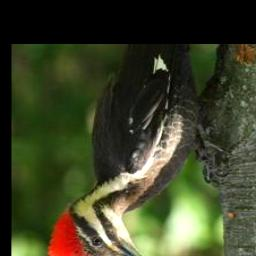Woodpecker: (49, 46, 228, 256)
